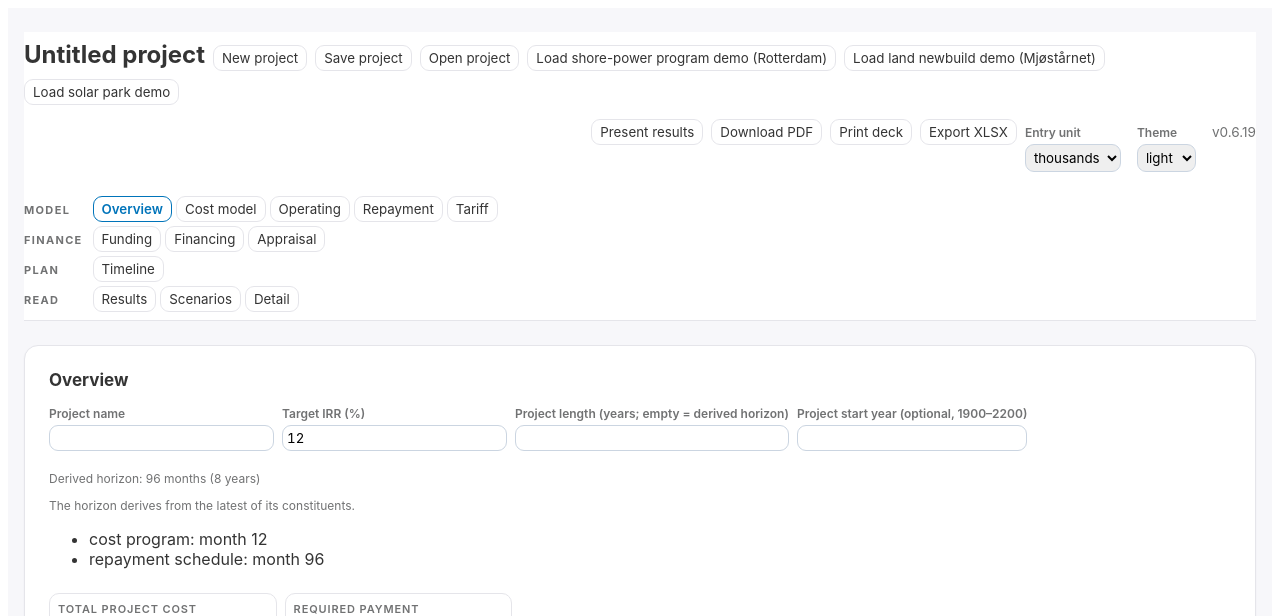
Test: Task B: TOKEN-SET / surfaces / typography (structural) › LENGTH-HINT: the derived value renders
Click the button "Load shore-power program demo (Rotterdam)".
click(682, 58)  # box x1=527 y1=45 x2=836 y2=71
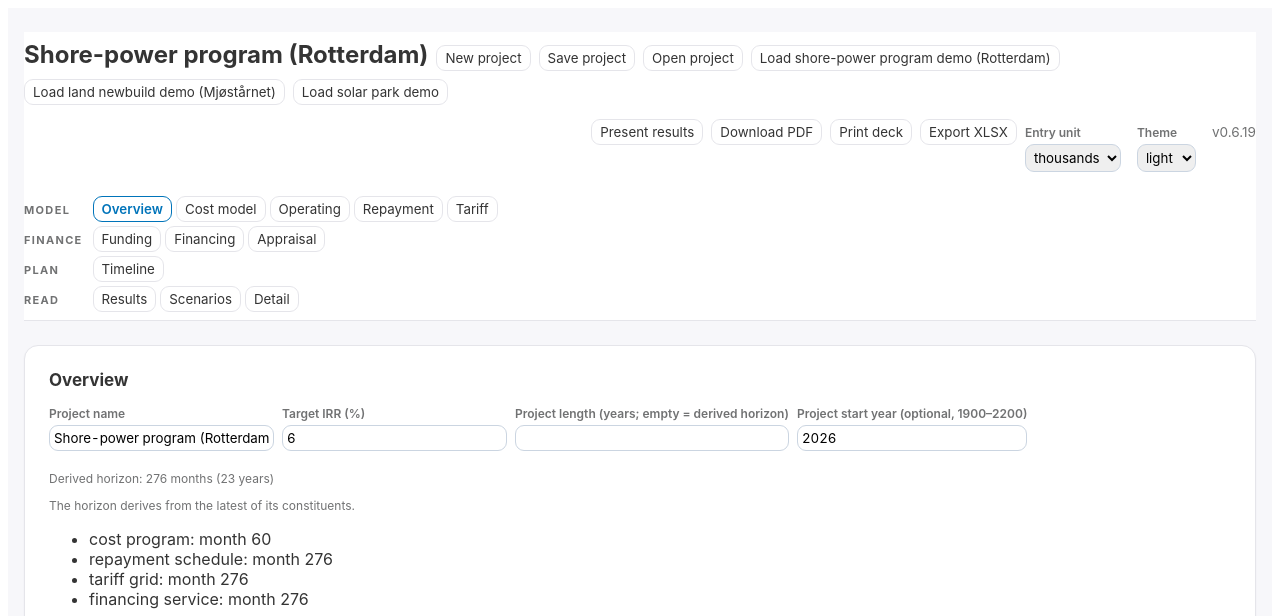
Check: the text with test id "length-hint" shows "276 months (23 years)", box x1=146 y1=471 x2=274 y2=486
